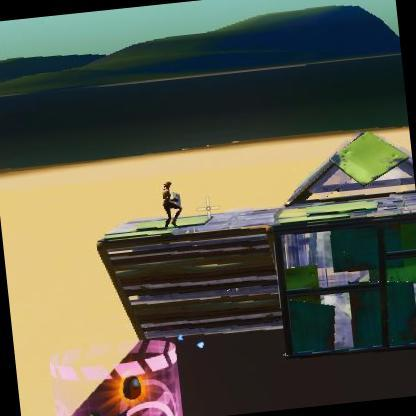person: (158, 181, 190, 234)
